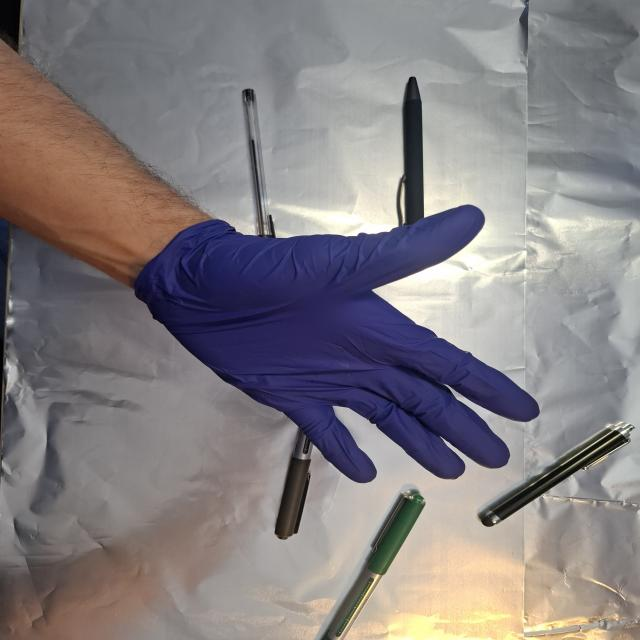glove_on: (128, 202, 544, 486)
